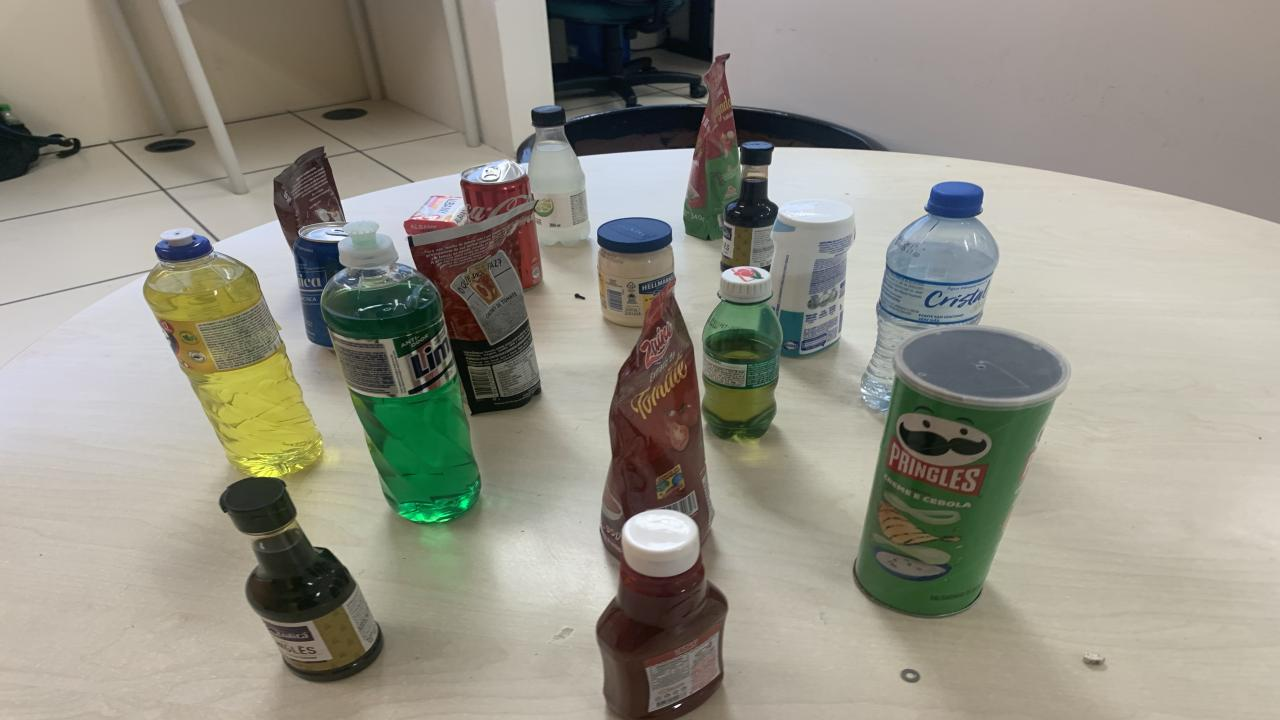Cleaner-Cleanup_Items: (770, 199, 855, 356)
Coffee-Pantry_Items: (272, 146, 345, 248)
Coke-Drinks: (460, 159, 532, 223), (518, 219, 542, 289), (315, 257, 318, 259)
Detergent-Cleanup_Items: (322, 221, 480, 523), (142, 229, 322, 476), (430, 429, 432, 431)
English_Sauce-Pantry_Items: (220, 476, 382, 681), (720, 142, 778, 270)
Guarana-Drinks: (702, 266, 782, 439), (640, 264, 642, 266)
Ketchup-Pantry_Items: (598, 510, 728, 718)
Mayonnaise-Pantry_Items: (598, 218, 675, 326)
Pringles-Snacks: (855, 326, 1070, 617), (670, 431, 672, 435)
Soap-Cleanup_Items: (402, 195, 468, 234)
Soda-Drinks: (528, 105, 590, 246)
Tomato_Sauce-Pantry_Items: (600, 285, 715, 557), (408, 202, 540, 412), (682, 54, 740, 240), (752, 229, 758, 232)
Tonic-Drinks: (292, 221, 348, 347)
Water_Bottle-Drinks: (860, 182, 1000, 411)
